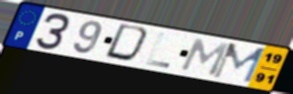3: (33, 12, 72, 51)
9: (72, 20, 103, 55)
D: (102, 22, 153, 64)
L: (144, 31, 172, 70)
M: (210, 41, 268, 85), (178, 37, 231, 78)
